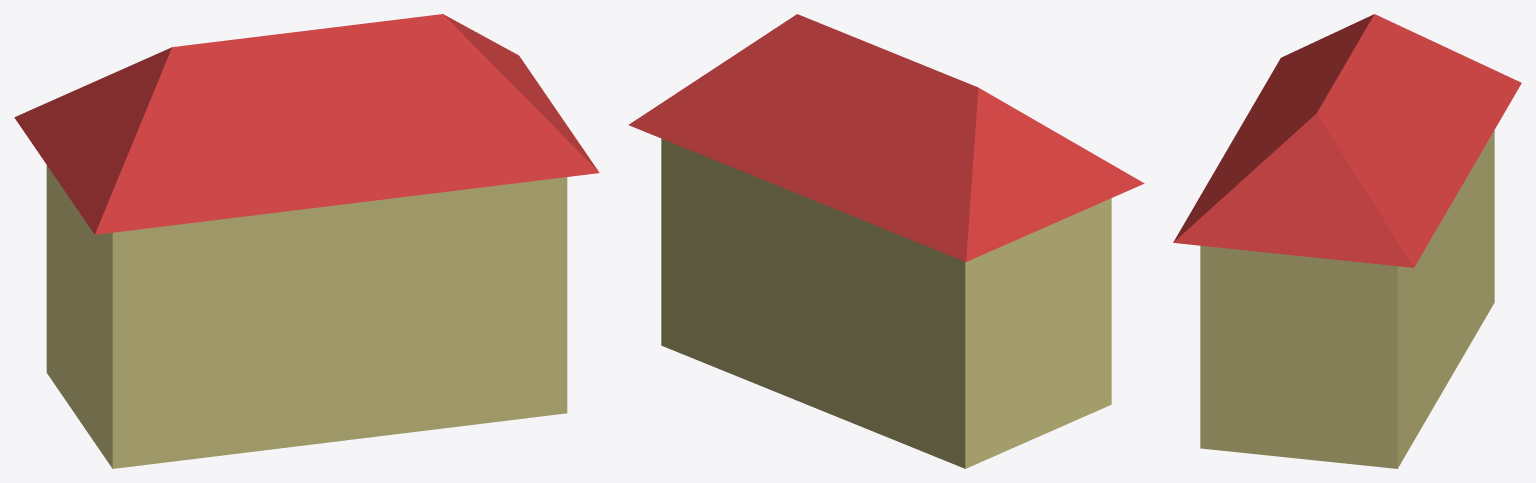
The picture shows the model from 3 angles, left to right: view 1: azimuth 30°, elevation 25°; view 2: azimuth 150°, elevation 25°; view 3: azimuth 270°, elevation 25°; orthographic projection. The views are drawn at different scales.
Parts seen in each view (by area): view 1: group_5, group_3, group_4; view 2: group_5, group_3, group_4; view 3: group_5, group_3, group_4.
Boxes of the visible parts, <box> form: group_5: <box>46,165,567,468</box>; group_3: <box>48,14,598,234</box>; group_4: <box>14,47,599,234</box>; group_5: <box>661,138,1111,468</box>; group_3: <box>628,14,1108,229</box>; group_4: <box>629,125,1144,261</box>; group_5: <box>1200,130,1494,468</box>; group_3: <box>1173,14,1494,267</box>; group_4: <box>1173,50,1521,267</box>.
Bounding box in the file's own units: 22.1 × 15.51 × 15.28.
